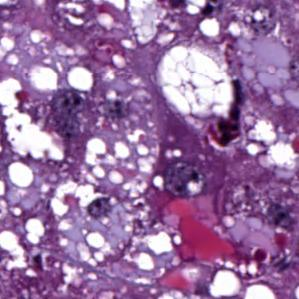ballooning: (155, 43, 237, 137)
